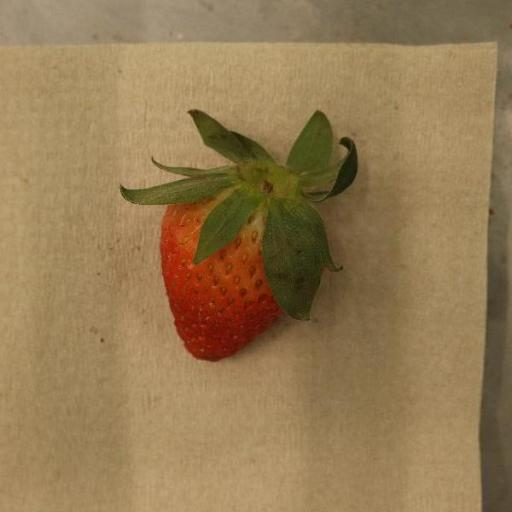Strawberry: (119, 110, 361, 362)
